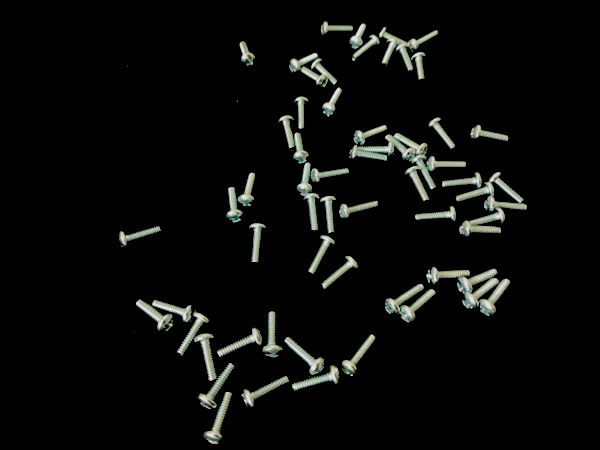shortscrew: (197, 364, 236, 409), (176, 312, 213, 357), (203, 391, 233, 446), (284, 337, 326, 376), (340, 335, 377, 378), (242, 376, 290, 409), (134, 299, 175, 334), (217, 328, 264, 358), (384, 284, 425, 318), (399, 289, 437, 325), (321, 256, 359, 291), (479, 279, 512, 319), (292, 365, 342, 391), (462, 278, 499, 312), (193, 333, 218, 382), (307, 236, 336, 277), (488, 171, 524, 204), (152, 299, 197, 325), (118, 224, 163, 249), (458, 269, 498, 294), (339, 199, 379, 223), (405, 166, 430, 203), (428, 118, 456, 151), (454, 182, 495, 204), (412, 156, 437, 192), (264, 312, 283, 359), (311, 58, 339, 88), (427, 267, 471, 286), (352, 34, 381, 62), (386, 135, 416, 162), (470, 125, 509, 145), (248, 224, 267, 264), (353, 124, 389, 145), (415, 206, 457, 224), (484, 197, 528, 214), (442, 172, 483, 190), (460, 221, 502, 238), (319, 196, 337, 235), (301, 66, 330, 90), (395, 134, 428, 155), (289, 52, 319, 75), (303, 194, 321, 232), (322, 86, 343, 118), (426, 157, 467, 173), (238, 173, 257, 207), (296, 163, 315, 197), (278, 115, 296, 150), (227, 187, 244, 224), (379, 27, 410, 47), (312, 168, 350, 184), (292, 133, 311, 164), (293, 97, 310, 131), (320, 21, 354, 38), (471, 208, 505, 225), (409, 31, 439, 50), (381, 39, 400, 68), (349, 23, 369, 50), (396, 45, 414, 73), (239, 41, 257, 68), (412, 52, 428, 82)
